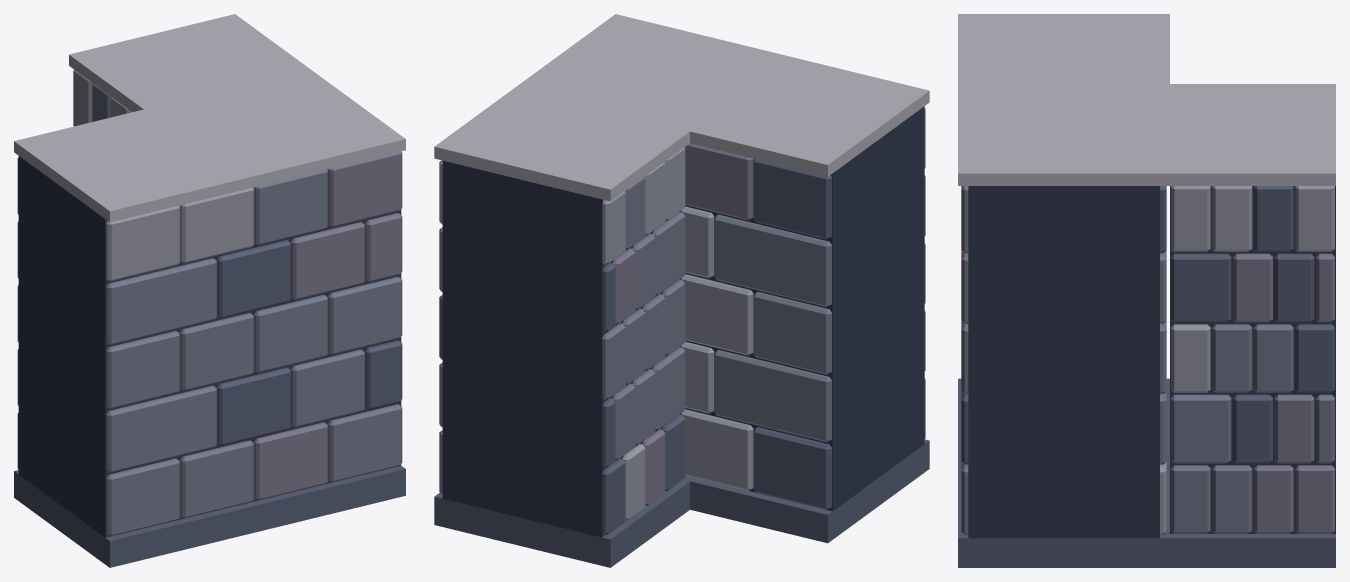
File: EG_Muralla_Esquina.fbx
The picture shows the model from 3 angles, left to right: view 1: azimuth 30°, elevation 25°; view 2: azimuth 150°, elevation 25°; view 3: azimuth 270°, elevation 25°; orthographic projection. The views are drawn at different scales.
Visible parts, largest first — view 1: EG_Muralla_Esquina; view 2: EG_Muralla_Esquina; view 3: EG_Muralla_Esquina.
Part boxes in pixels (<box>): EG_Muralla_Esquina: <box>14,14,405,567</box>; EG_Muralla_Esquina: <box>434,14,929,567</box>; EG_Muralla_Esquina: <box>958,14,1335,567</box>.
Size of the model in its own units: 2.78 by 3.2 by 2.78.
Materials: 1 (1 with a texture image).
